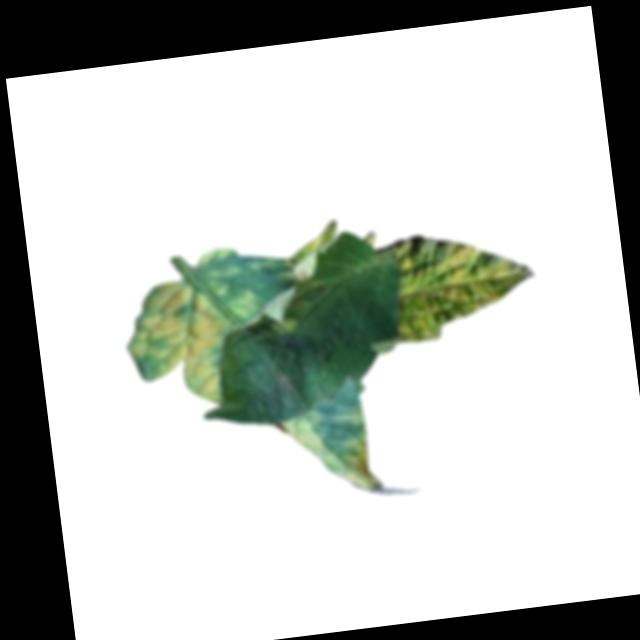Leaf_Mold: (388, 221, 543, 348), (117, 278, 237, 414), (276, 405, 376, 506), (230, 286, 266, 322), (266, 314, 302, 345)
